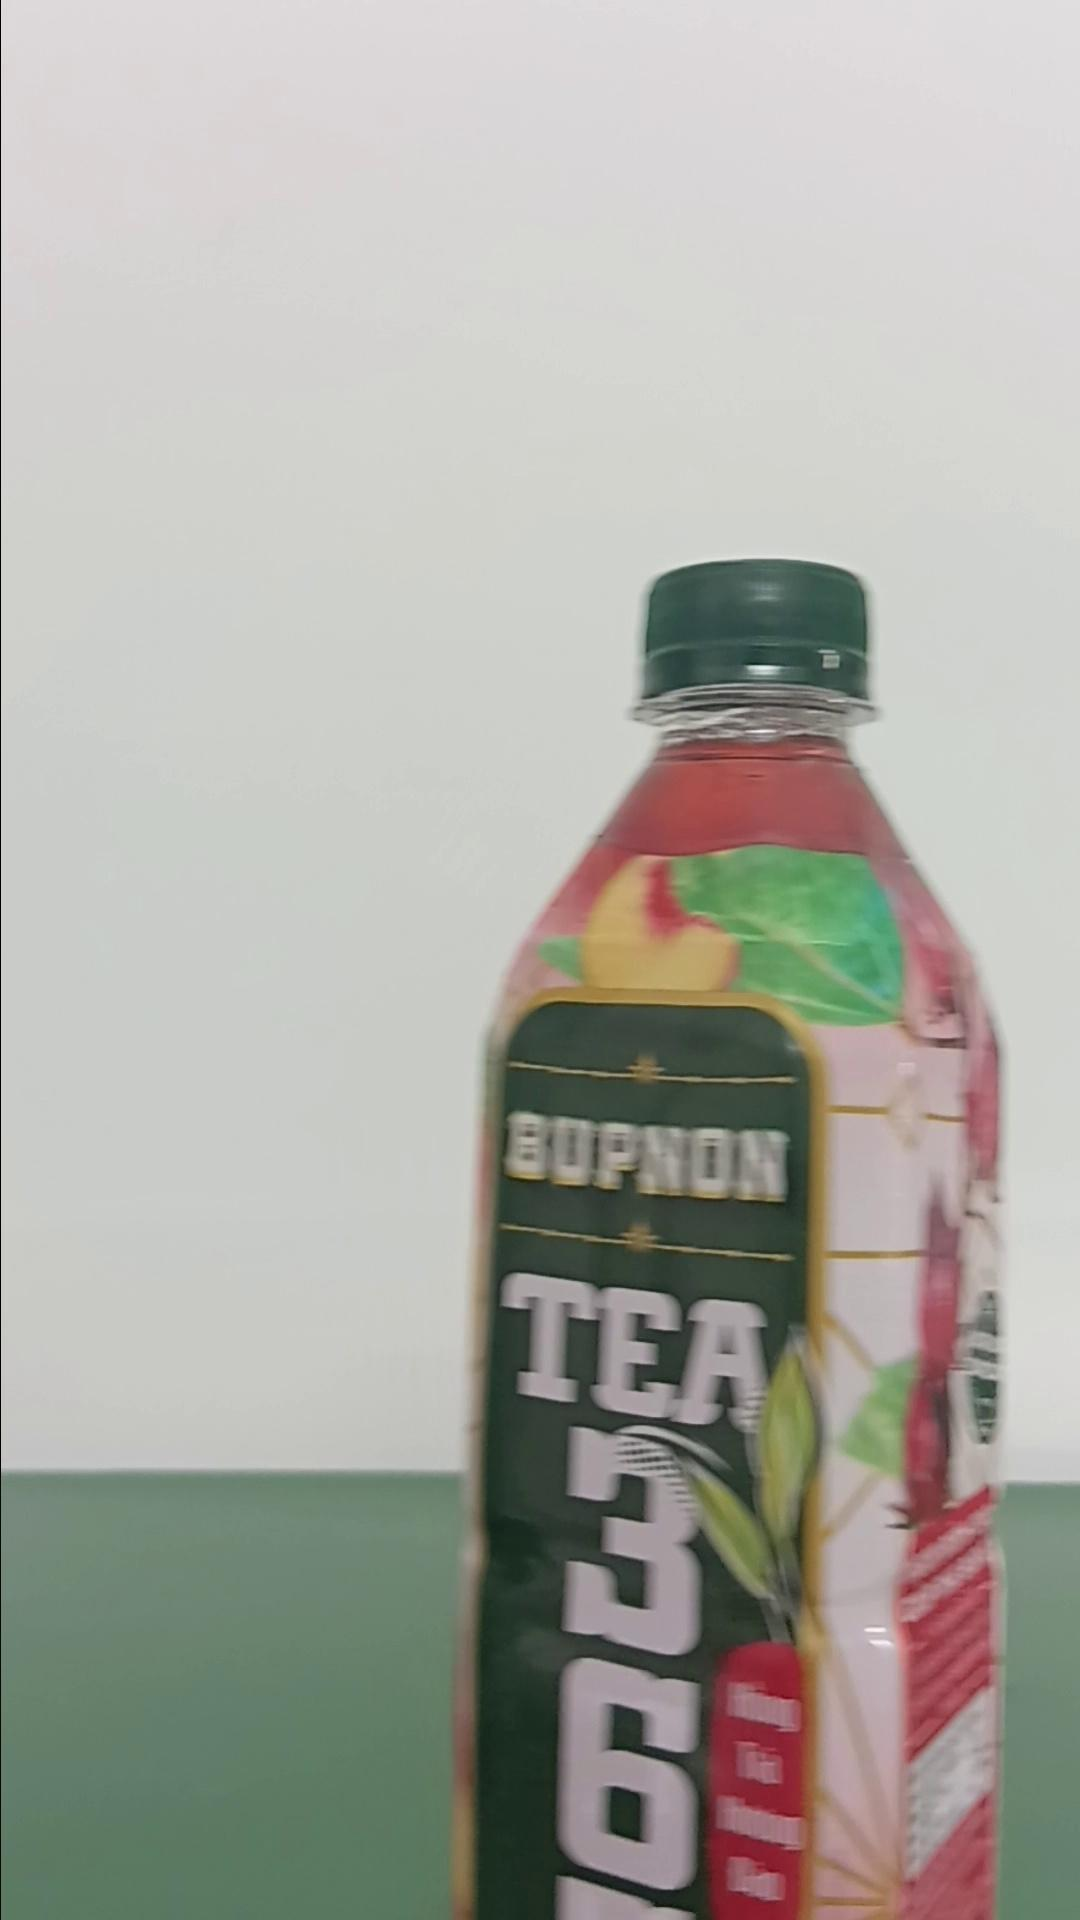khong loi: (458, 554, 1011, 1915)
